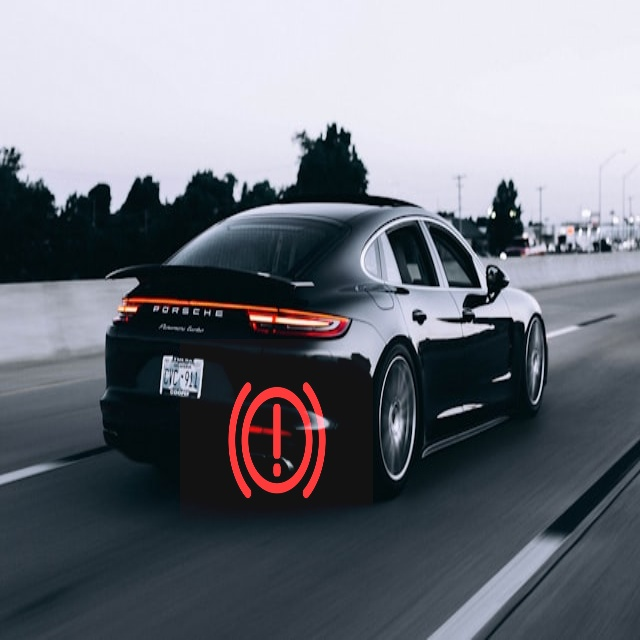symbol: (180, 339, 373, 532)
